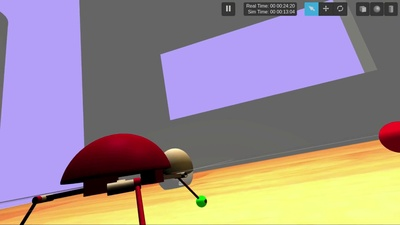mira_robot: (161, 148, 194, 190)
